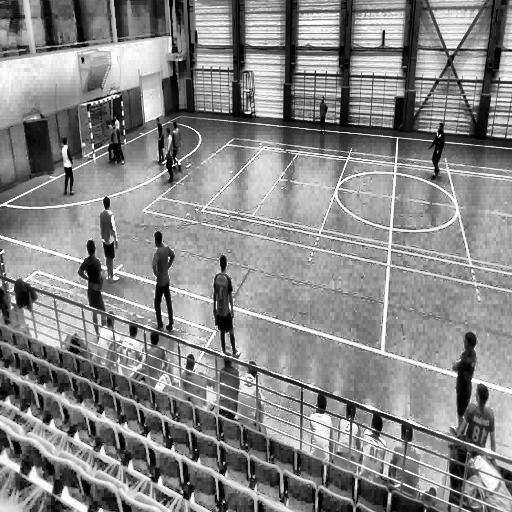ball: (80, 139, 87, 153)
player: (77, 240, 106, 338), (451, 331, 478, 436), (212, 253, 236, 359), (152, 229, 176, 332), (100, 195, 118, 282), (426, 121, 446, 181), (61, 137, 75, 198), (110, 119, 126, 166), (171, 120, 184, 177), (156, 117, 166, 165), (319, 95, 328, 135), (106, 119, 113, 165), (112, 112, 122, 132)
